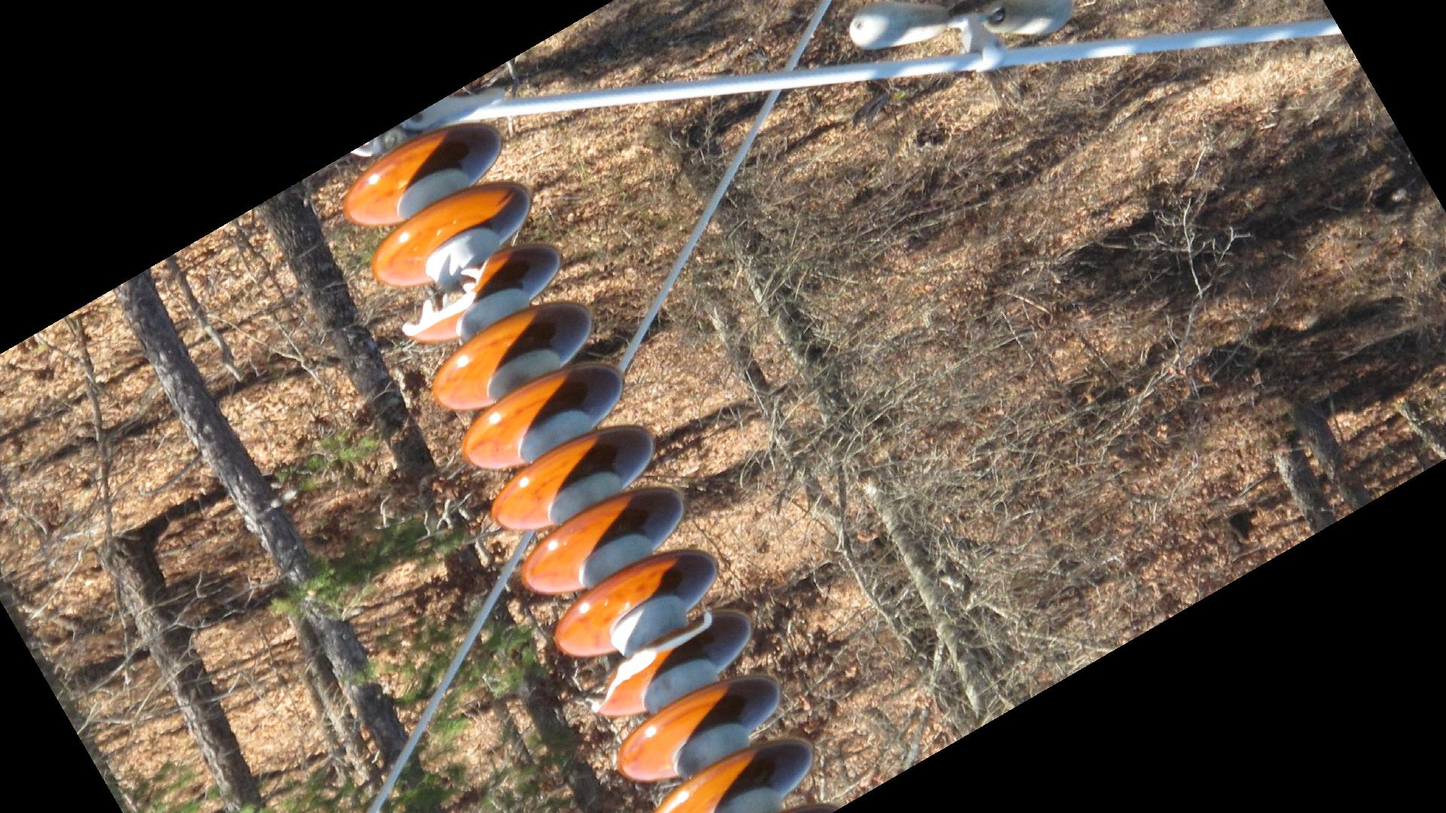insulator: (336, 117, 828, 813)
insulator_breakage: (587, 603, 716, 716), (396, 247, 497, 340)
